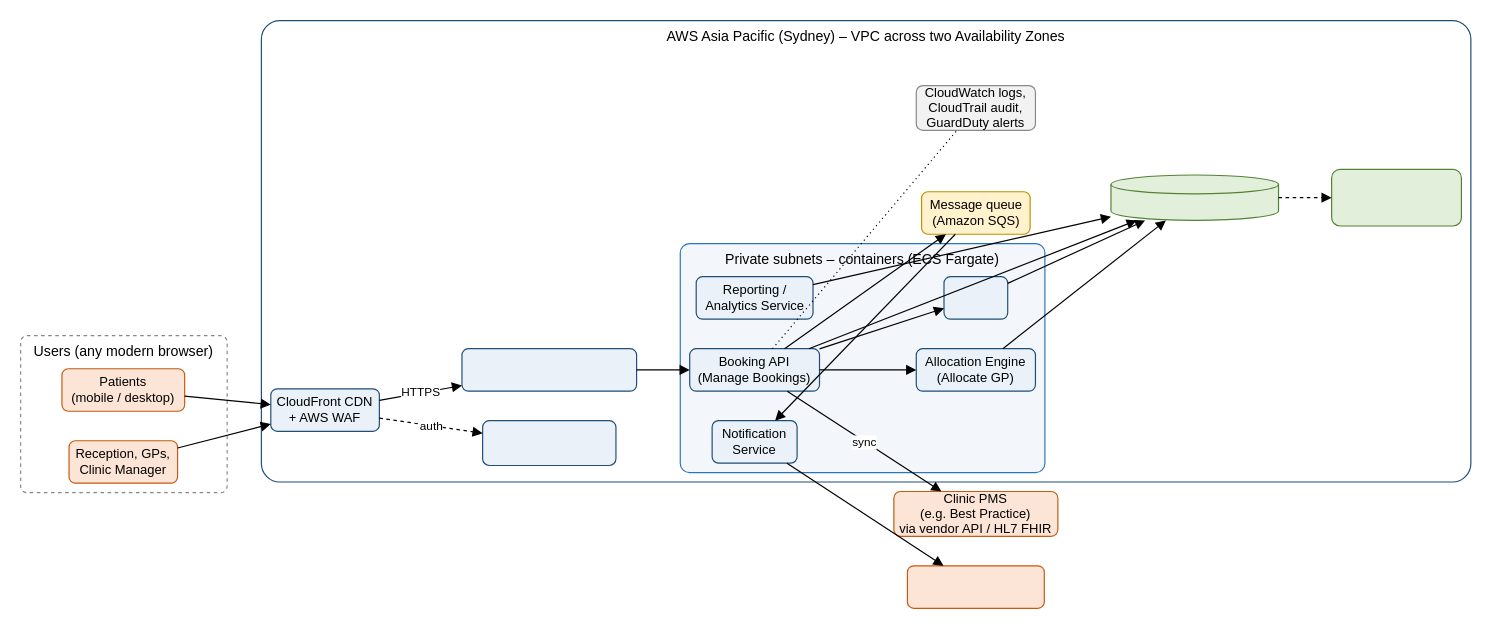
Some shapes in this 1492 by 629 pixel diagram are drawn without their labels. The centre of each missing label's shape, as x and y in pixels:
"Amazon Cognito (login, MFA for staff, role groups)" belongs at [548,442].
"Amazon RDS PostgreSQL Multi-AZ, encrypted (KMS)" belongs at [1194,197].
"Application Load Balancer (HTTPS/TLS 1.2+)" belongs at [549,369].
"AWS Backup – daily snapshots, 35-day retention, copy to Melbourne region" belongs at [1395,197].
"SMS / Email gateway (e.g. Twilio / SES)" belongs at [975,586].
"Waitlist Service" belongs at [975,297].
